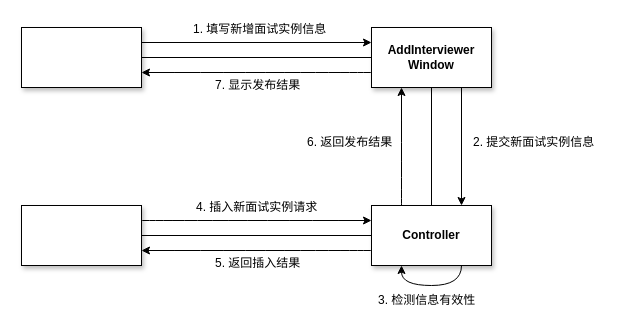
Image size: 619x326. Some labels were removed from this diagram. The shapes that lost their labels are listed below. From the top down, each one's centre as x and y in pixels, then its label:
At point 82,58: "Interviewer".
At point 82,236: "DataBase".
